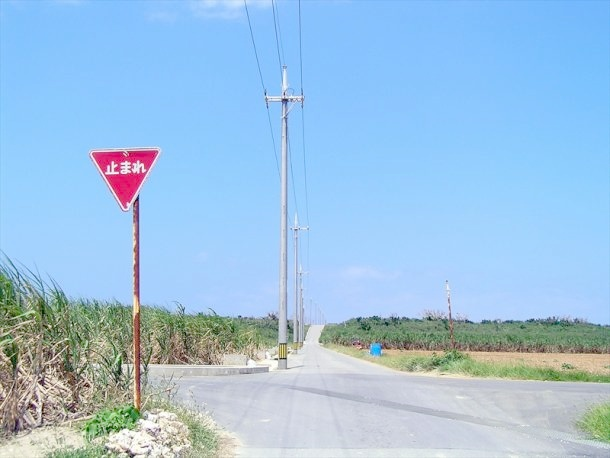Regulatory_sign_triangle: (82, 139, 174, 216)
